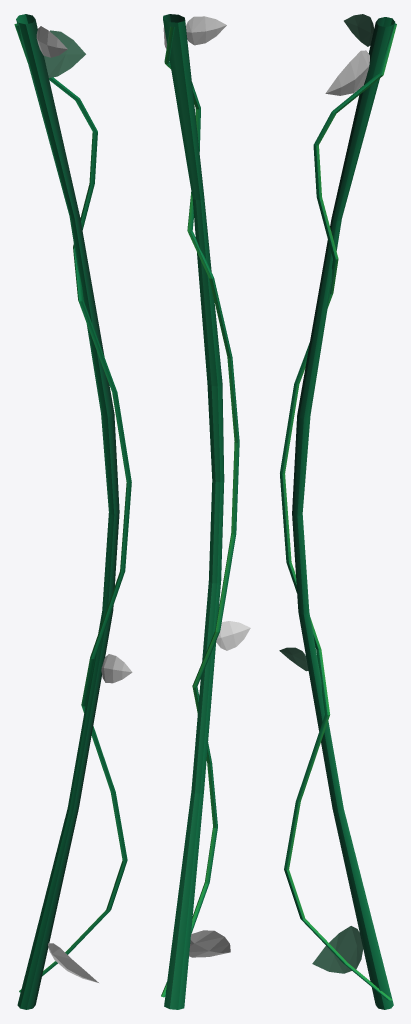
Rendered from VineA.fbx.
3 views of the same model, side by side, from view 1: azimuth 90°, elevation 25°; view 2: azimuth 150°, elevation 25°; view 3: azimuth 270°, elevation 25° (orthographic).
Parts seen in each view (by area): view 1: vineA (1); view 2: vineA (1); view 3: vineA (1).
Part boxes in pixels (x1,y1,x2,y2): vineA (1): (14,14,132,1009); vineA (1): (161,14,250,1009); vineA (1): (279,14,396,1009).
Size of the model in its own units: 68.06 by 919 by 100.
